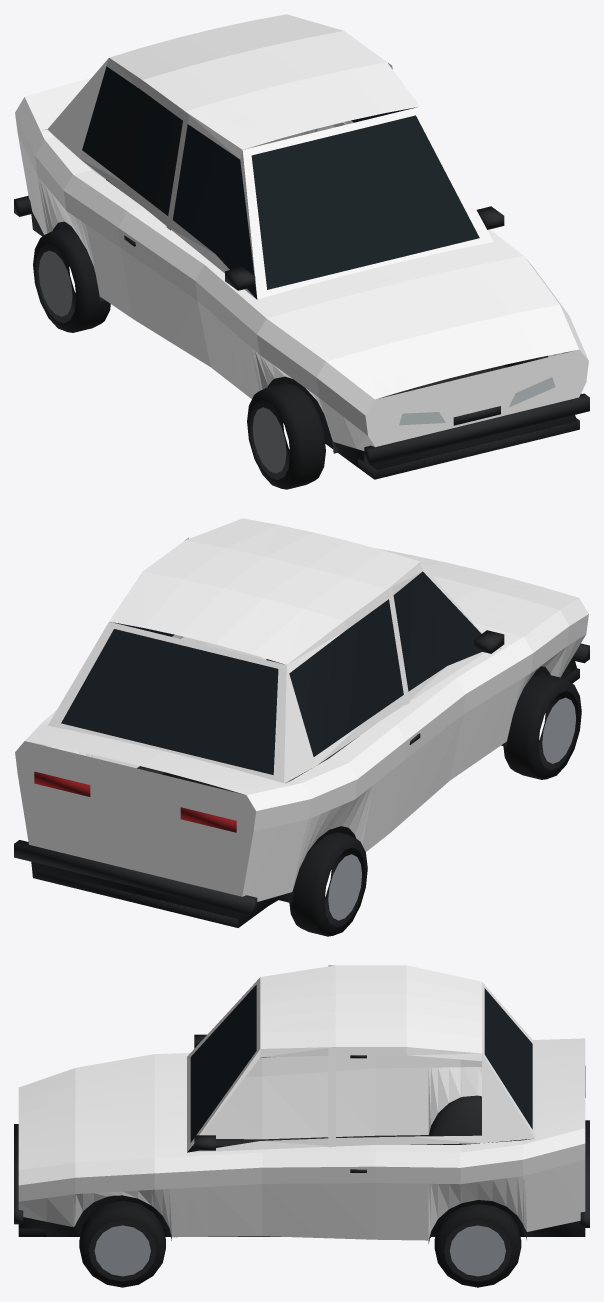
File: feldhaus_fruta.glb
3 renders of one model, top to bottom at view 1: azimuth 30°, elevation 25°; view 2: azimuth 150°, elevation 25°; view 3: azimuth 270°, elevation 25°, orthographic. The views are drawn at different scales.
Visible parts, largest first — view 1: Body_Paint, Body_Details, Mount_FrontLeft_Wheel_Details, Mount_RearLeft_Wheel_Details; view 2: Body_Paint, Body_Details, Mount_FrontLeft_Wheel_Details, Mount_RearLeft_Wheel_Details; view 3: Body_Paint, Body_Details, Mount_FrontRight_Wheel_Details, Mount_RearRight_Wheel_Details.
Boxes of the visible parts, x1,y1,x2,y2 form: Body_Paint: [15, 14, 588, 450]; Body_Details: [14, 66, 589, 479]; Mount_FrontLeft_Wheel_Details: [247, 383, 325, 489]; Mount_RearLeft_Wheel_Details: [33, 227, 110, 332]; Body_Paint: [15, 518, 588, 901]; Body_Details: [14, 571, 589, 927]; Mount_FrontLeft_Wheel_Details: [503, 673, 581, 779]; Mount_RearLeft_Wheel_Details: [289, 832, 367, 936]; Body_Paint: [18, 965, 585, 1240]; Body_Details: [14, 985, 589, 1243]; Mount_FrontRight_Wheel_Details: [79, 1200, 165, 1287]; Mount_RearRight_Wheel_Details: [434, 1204, 521, 1287].
Size of the model in its own units: 1.69 by 1.51 by 3.45.
2 materials, 1 textured.
